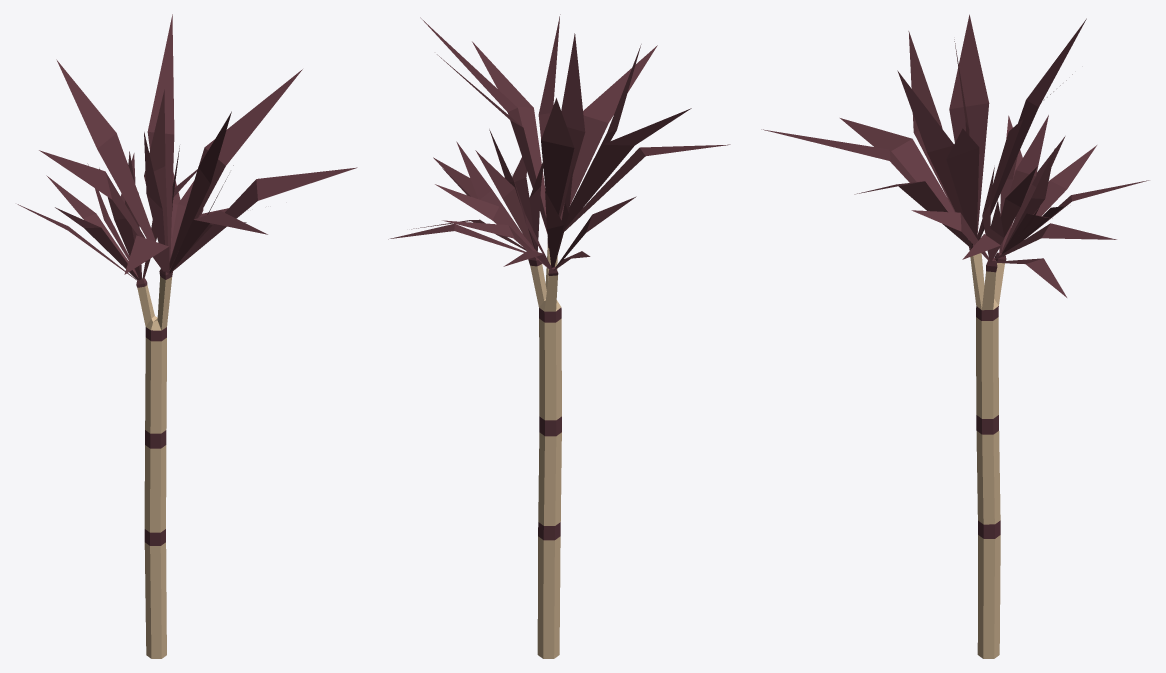
File: plant-dracaena-marginata.fbx
The picture shows the model from 3 angles, left to right: view 1: azimuth 30°, elevation 25°; view 2: azimuth 150°, elevation 25°; view 3: azimuth 270°, elevation 25°; orthographic projection. The views are drawn at different scales.
Parts seen in each view (by area): view 1: plant-dracaena-marginata; view 2: plant-dracaena-marginata; view 3: plant-dracaena-marginata.
Boxes of the visible parts, bbox=[...] form: plant-dracaena-marginata: bbox=[17, 14, 357, 658]; plant-dracaena-marginata: bbox=[388, 14, 730, 658]; plant-dracaena-marginata: bbox=[761, 14, 1149, 658].
Bounding box in the file's own units: 0.5554 × 1.18 × 0.6711.
